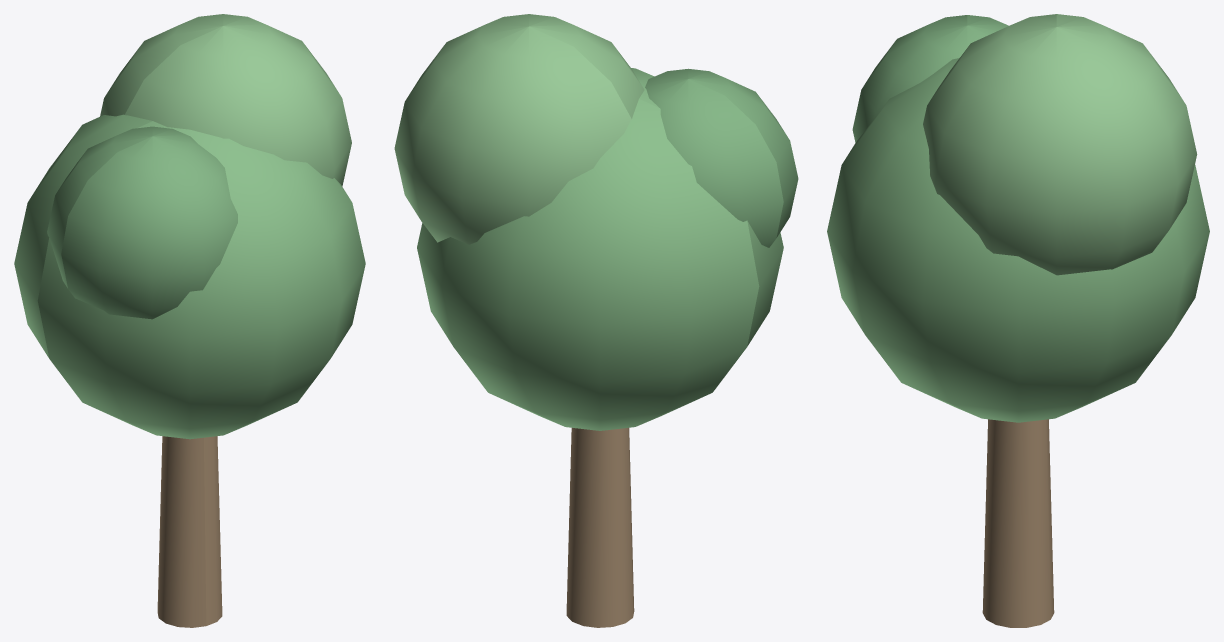
The model's file is tree.glb.
3 views of the same model, side by side, from view 1: azimuth 30°, elevation 25°; view 2: azimuth 150°, elevation 25°; view 3: azimuth 270°, elevation 25° (orthographic). The views are drawn at different scales.
Visible parts, largest first — view 1: c3e7d3f_1_0, c366f38_1_0, c4a8b49_1_0, c6b4b2e_0.75_0; view 2: c3e7d3f_1_0, c4a8b49_1_0, c366f38_1_0, c6b4b2e_0.75_0; view 3: c3e7d3f_1_0, c4a8b49_1_0, c6b4b2e_0.75_0, c366f38_1_0.
Boxes of the visible parts, left/top/right/bottom form: c3e7d3f_1_0: left=14, top=114, right=365, bottom=439; c366f38_1_0: left=47, top=126, right=237, bottom=319; c4a8b49_1_0: left=100, top=14, right=351, bottom=186; c6b4b2e_0.75_0: left=157, top=436, right=222, bottom=627; c3e7d3f_1_0: left=417, top=68, right=783, bottom=430; c4a8b49_1_0: left=394, top=14, right=644, bottom=244; c366f38_1_0: left=645, top=68, right=798, bottom=247; c6b4b2e_0.75_0: left=566, top=428, right=634, bottom=627; c3e7d3f_1_0: left=827, top=58, right=1209, bottom=422; c4a8b49_1_0: left=923, top=14, right=1197, bottom=275; c6b4b2e_0.75_0: left=982, top=419, right=1054, bottom=627; c366f38_1_0: left=852, top=15, right=1008, bottom=142.
Bounding box in the file's own units: 3.1 × 5.3 × 3.
